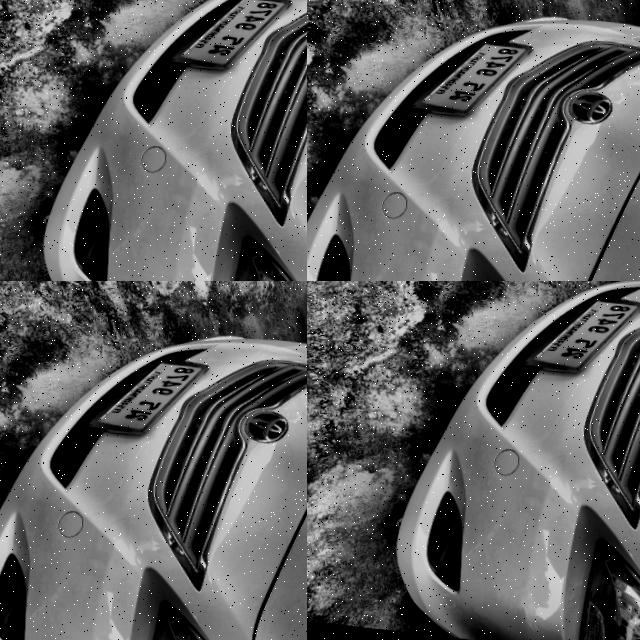license-plate: (198, 308, 307, 640), (507, 282, 640, 381)
